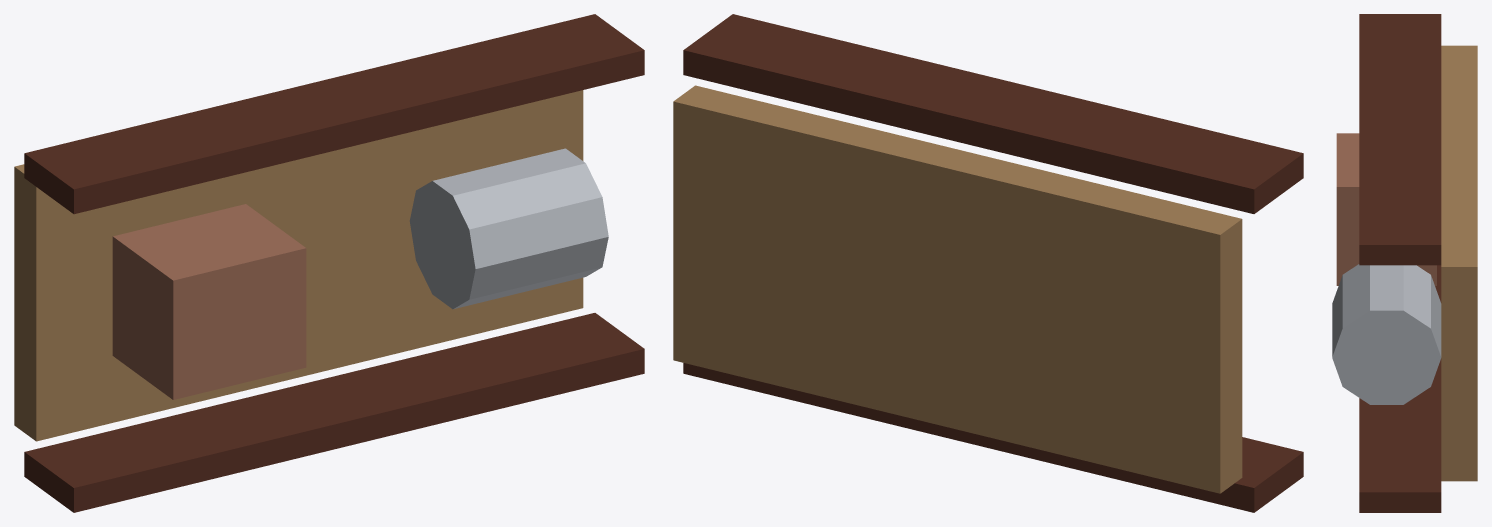
The model's file is 08_skyship_deck.glb.
3 views of the same model, side by side, from view 1: azimuth 30°, elevation 25°; view 2: azimuth 150°, elevation 25°; view 3: azimuth 270°, elevation 25° (orthographic). The views are drawn at different scales.
Parts seen in each view (by area): view 1: deck_insert, rail_right, rail_left, cargo_crate, winch; view 2: deck_insert, rail_right, rail_left; view 3: rail_right, deck_insert, winch, rail_left, cargo_crate.
Boxes of the visible parts, x1,y1,x2,y2 form: deck_insert: [14, 90, 583, 441]; rail_right: [24, 14, 644, 214]; rail_left: [24, 313, 644, 512]; cargo_crate: [112, 204, 306, 399]; winch: [409, 148, 608, 309]; deck_insert: [673, 85, 1242, 493]; rail_right: [683, 14, 1303, 213]; rail_left: [683, 363, 1303, 512]; rail_right: [1359, 14, 1441, 265]; deck_insert: [1441, 45, 1477, 481]; winch: [1332, 264, 1441, 404]; rail_left: [1359, 265, 1441, 512]; cargo_crate: [1336, 133, 1436, 285].
Size of the model in its own units: 1.56 by 0.845 by 0.416.
